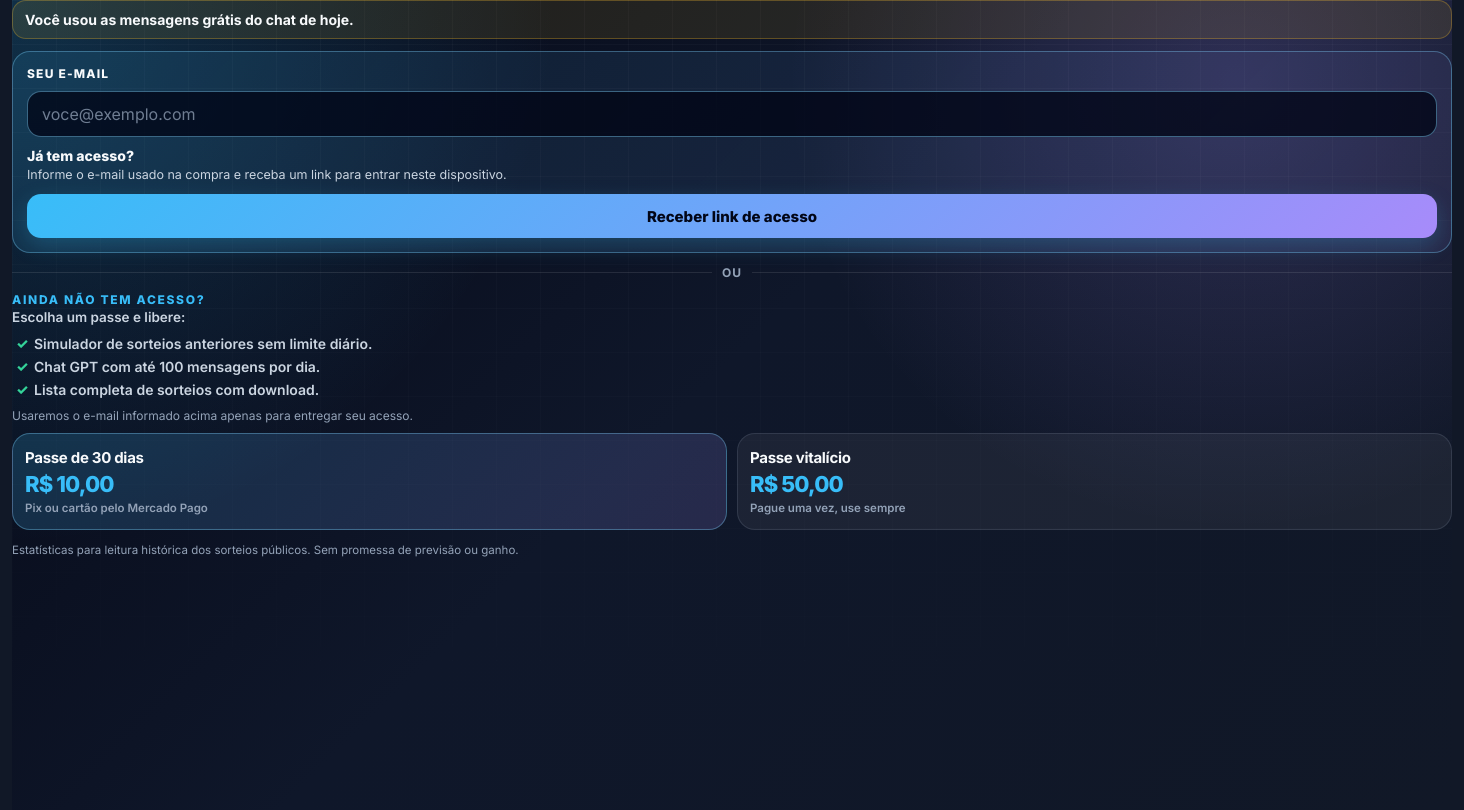
Test case: PaywallDialog › shows a generic error when the checkout request cannot be sent
Type "buyer@example.com" into the field labelled "Seu e-mail" at point(732, 114), box [27,91,1437,137]
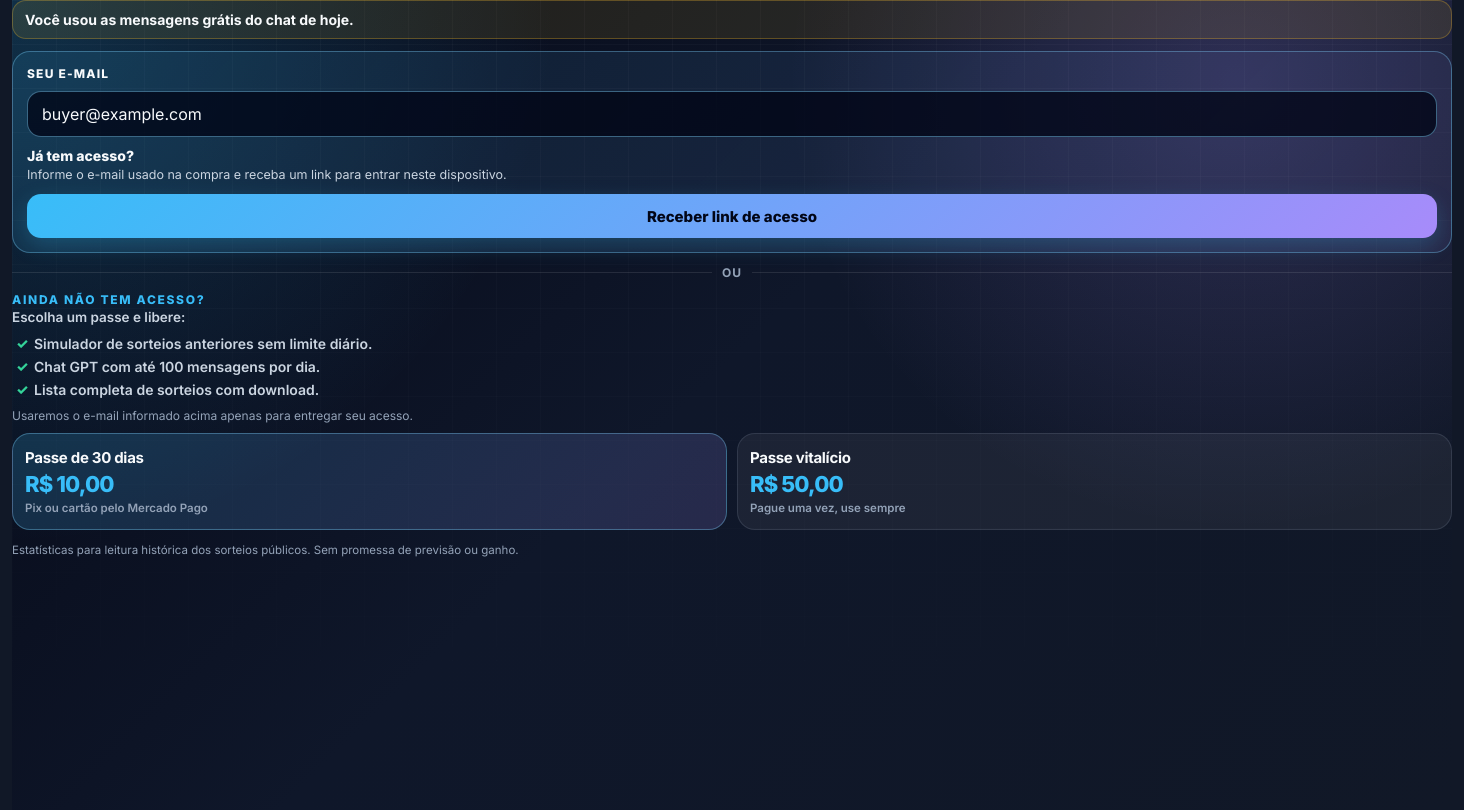
Click the button "Passe vitalício R$ 50,00 Pague uma vez, use sempre" at point(800, 458), box [737,433,1452,530]
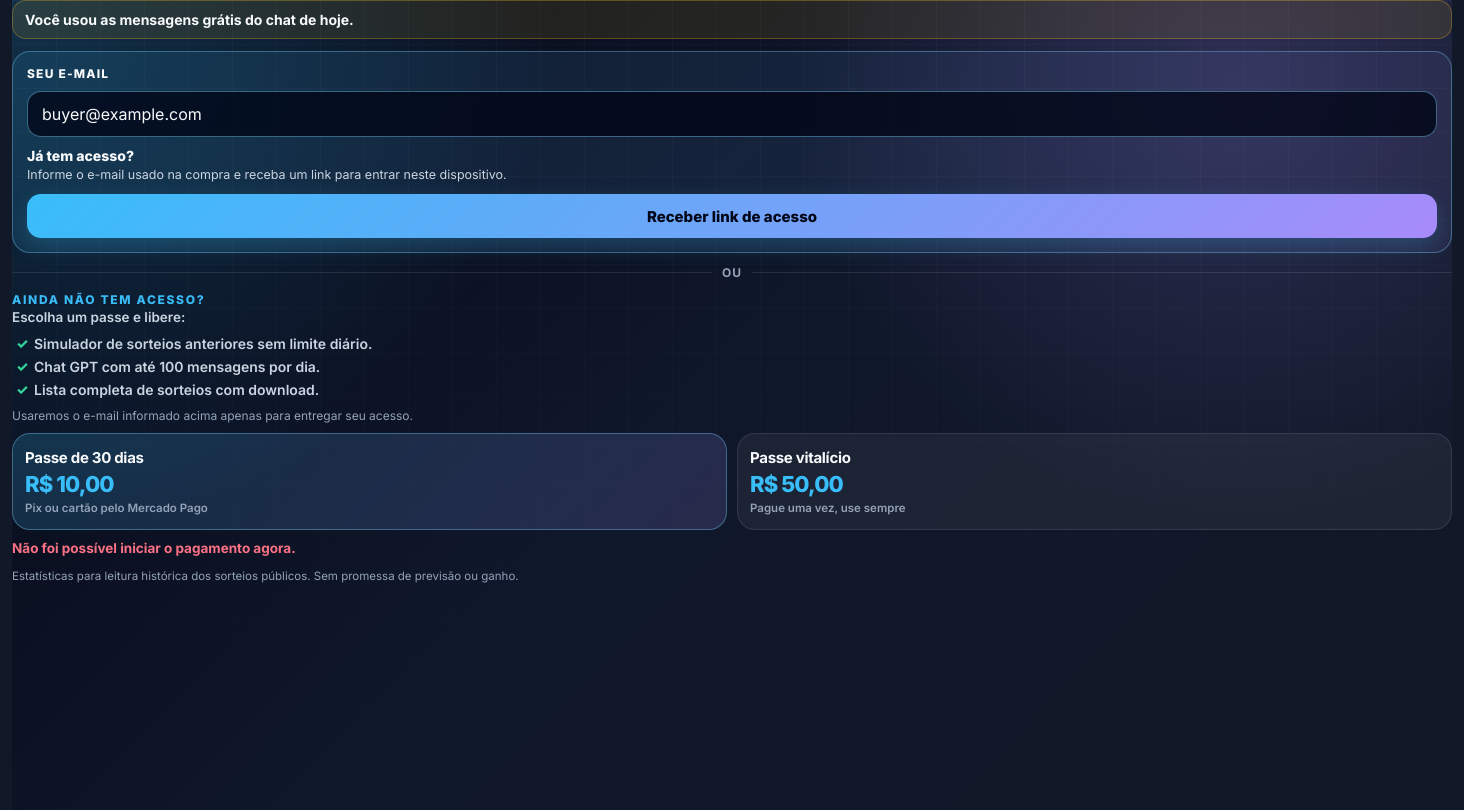
Expected: the message reads "Não foi possível iniciar o pagamento agora.", [12,540,296,556]
